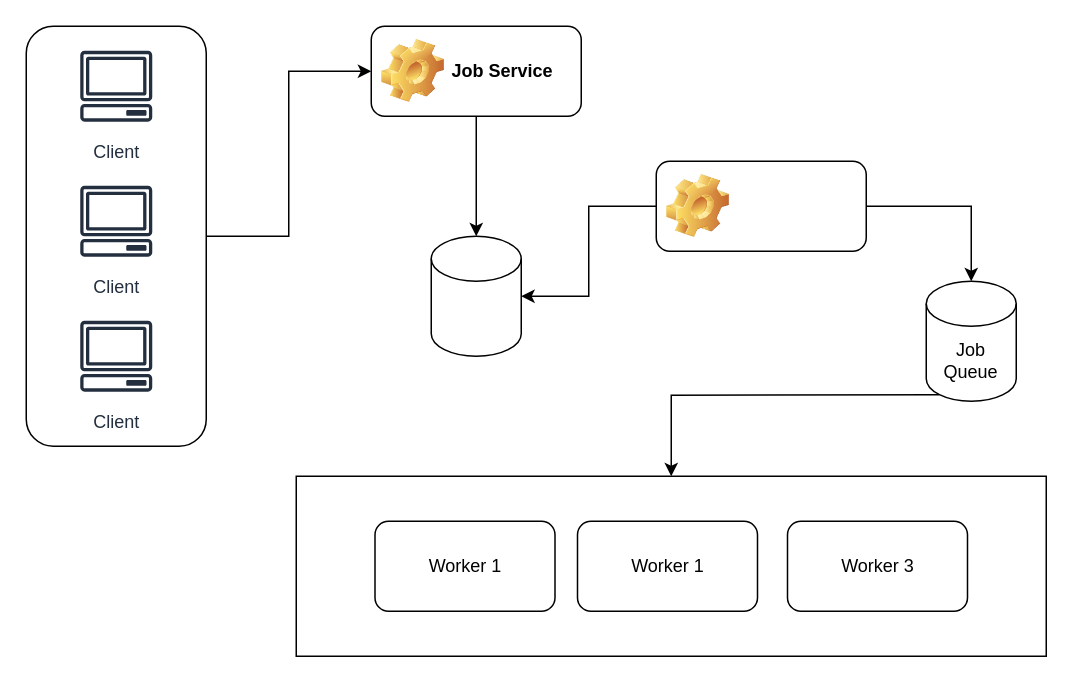
Image size: 1073x683. Some labels were removed from this diagram. Here are the shapes that lost their labels. From the top down, the centre of each, then its label:
At point 760,205: "Scheduling Service".
At point 475,295: "Job Store".
